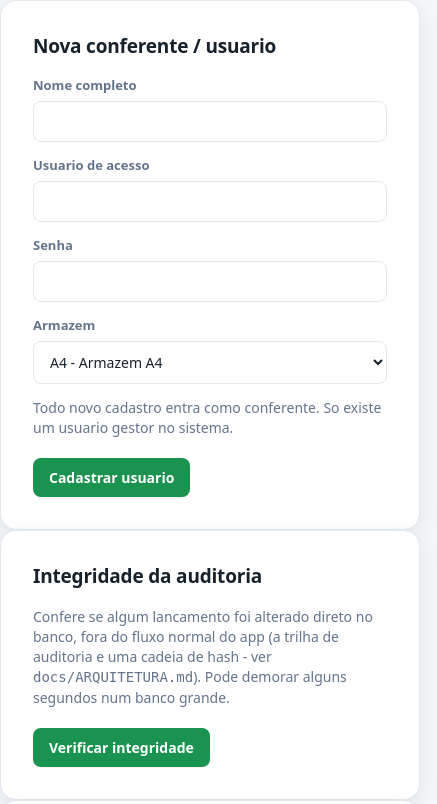
Usuarios - verificar integridade › mostra a quebra encontrada quando o backend retorna uma
Click the button "Verificar integridade": point(121, 748) x1=33 y1=728 x2=210 y2=767
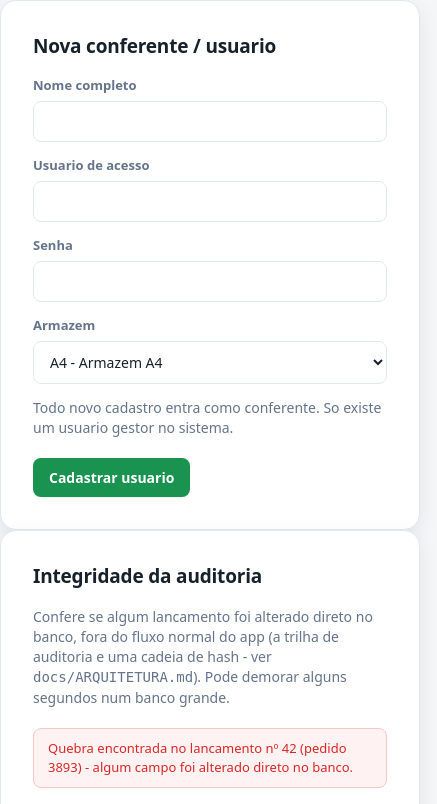
Check: the message shows "42", box x1=282 y1=739 x2=297 y2=757
Check: the message shows "3893", box x1=48 y1=739 x2=346 y2=776
